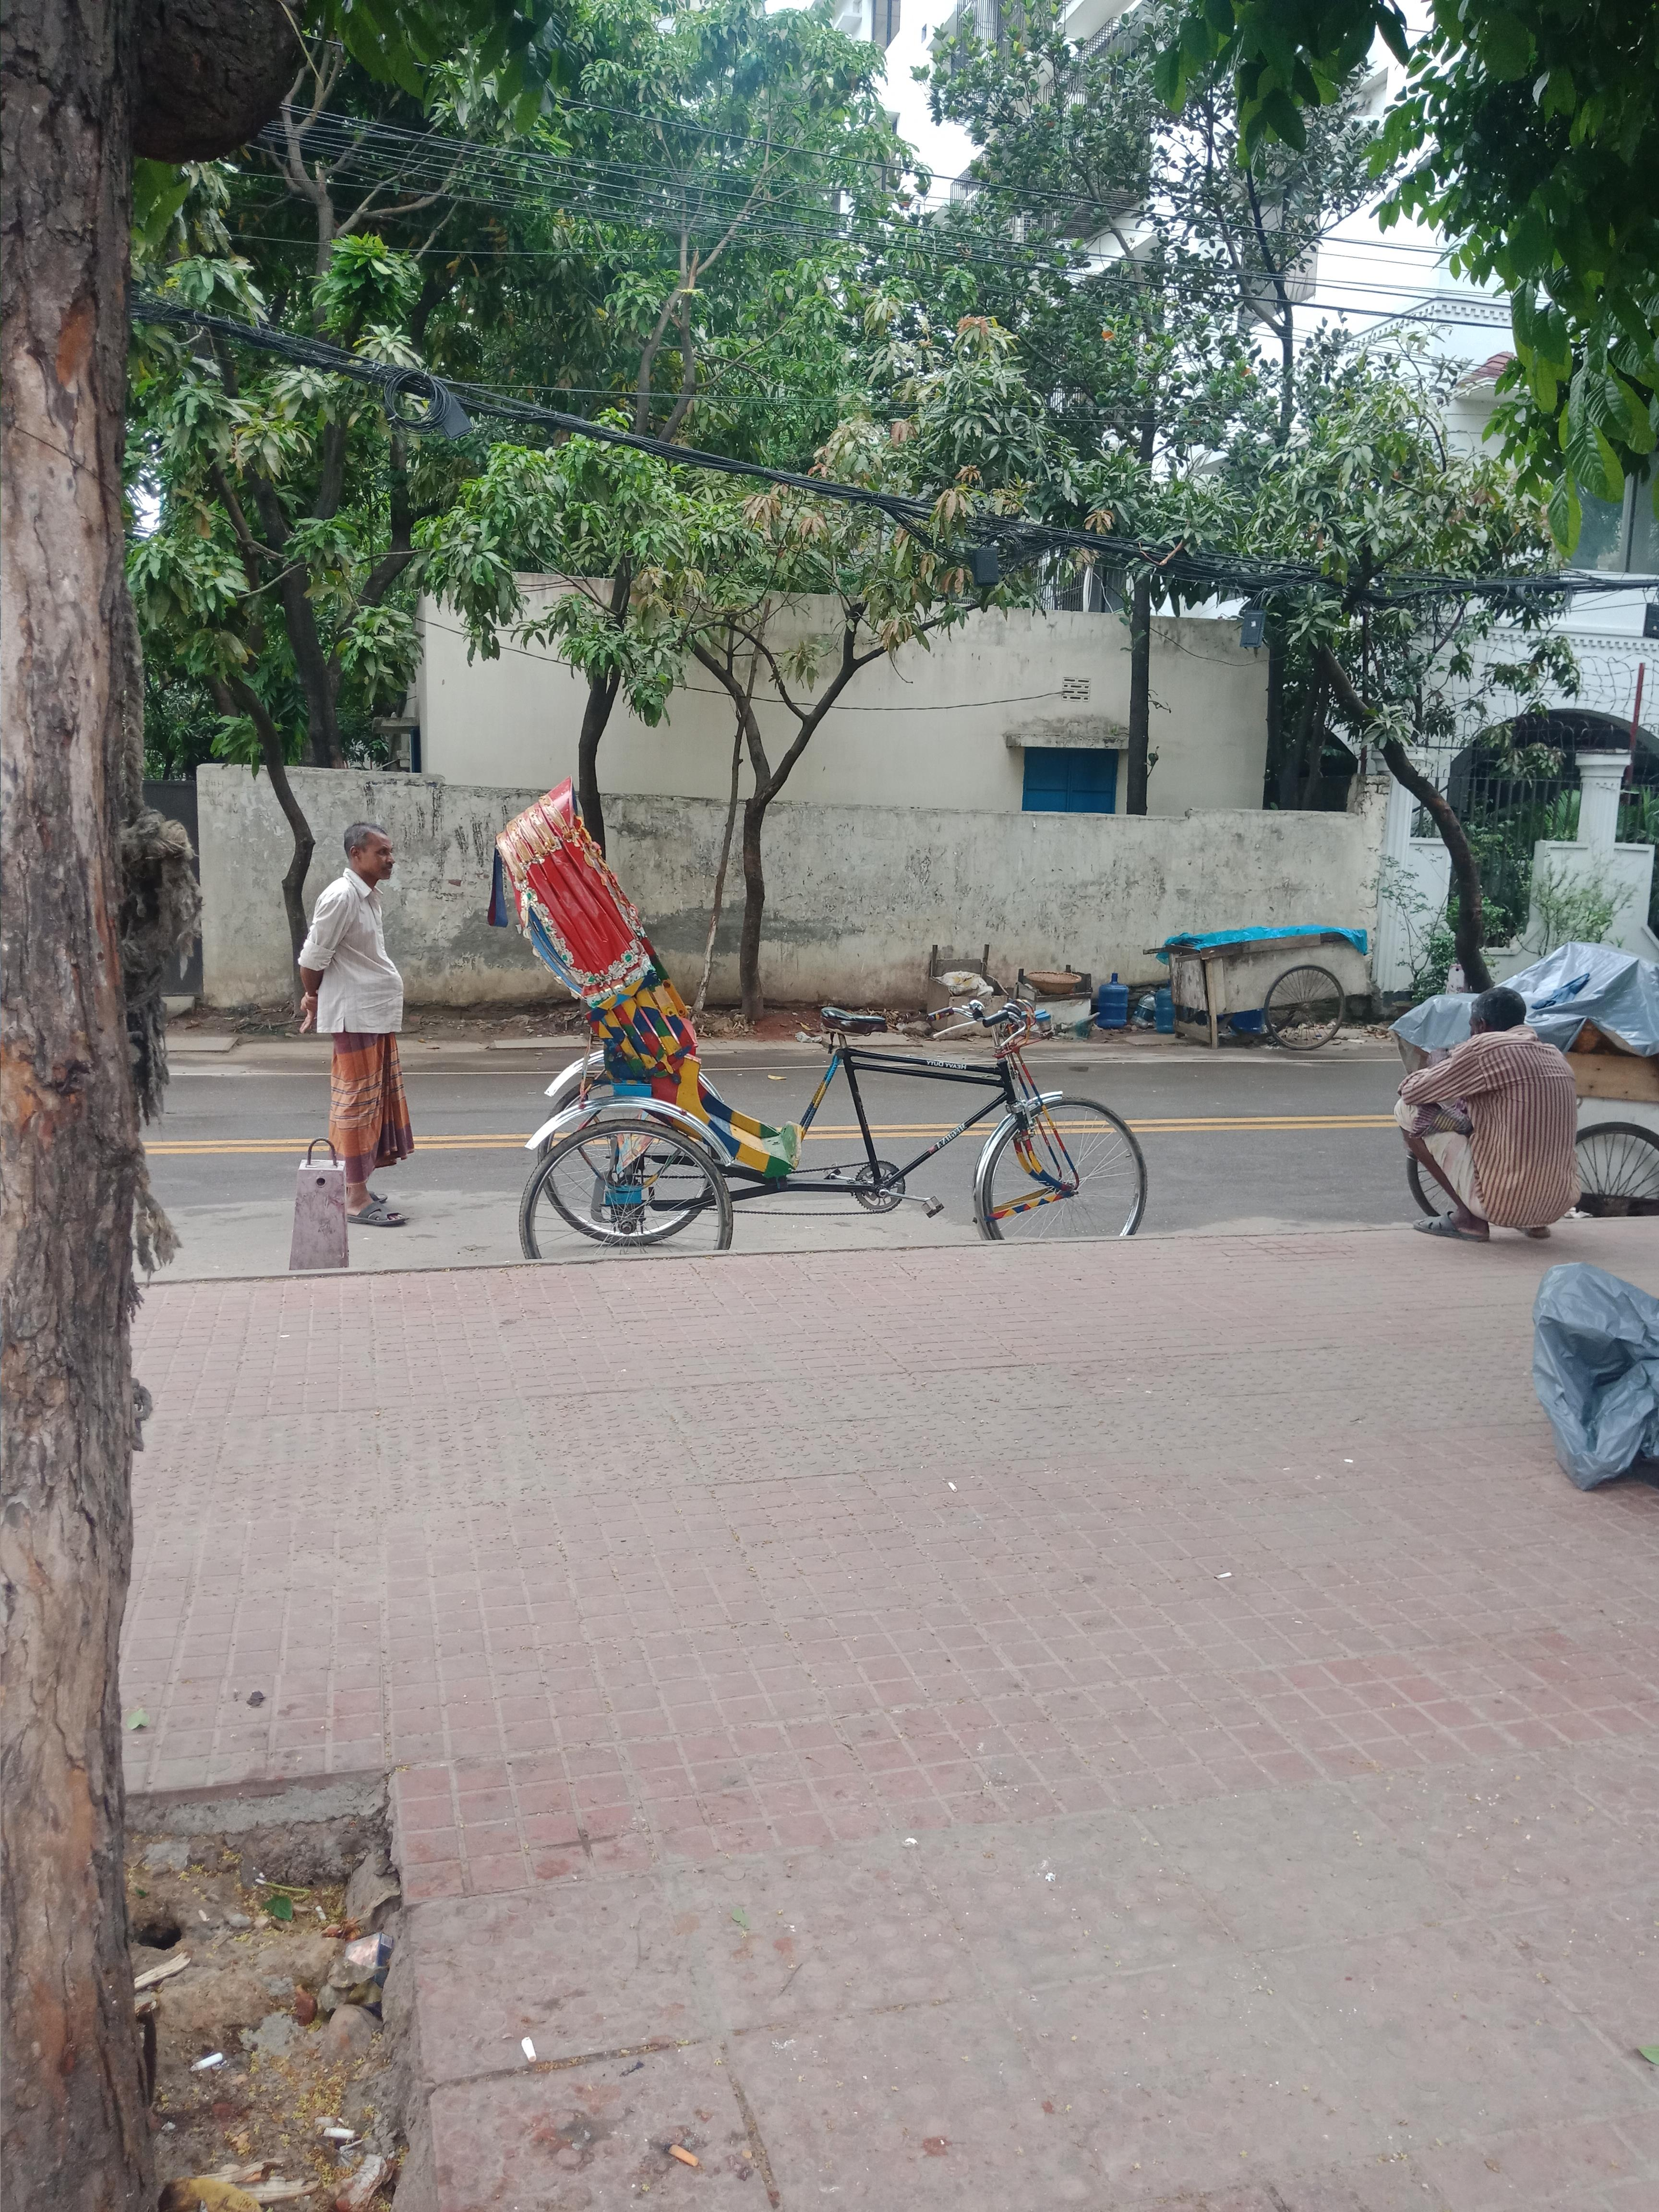Rickshaw: (488, 758, 1169, 1282)
